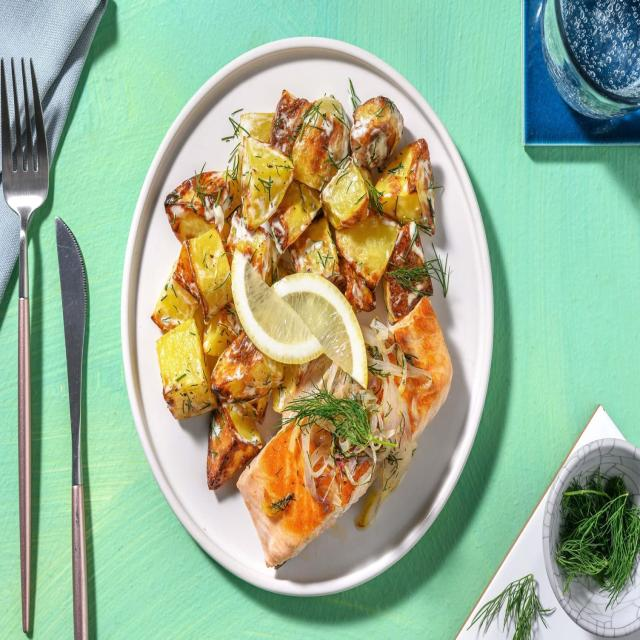papa: (245, 45, 430, 262)
